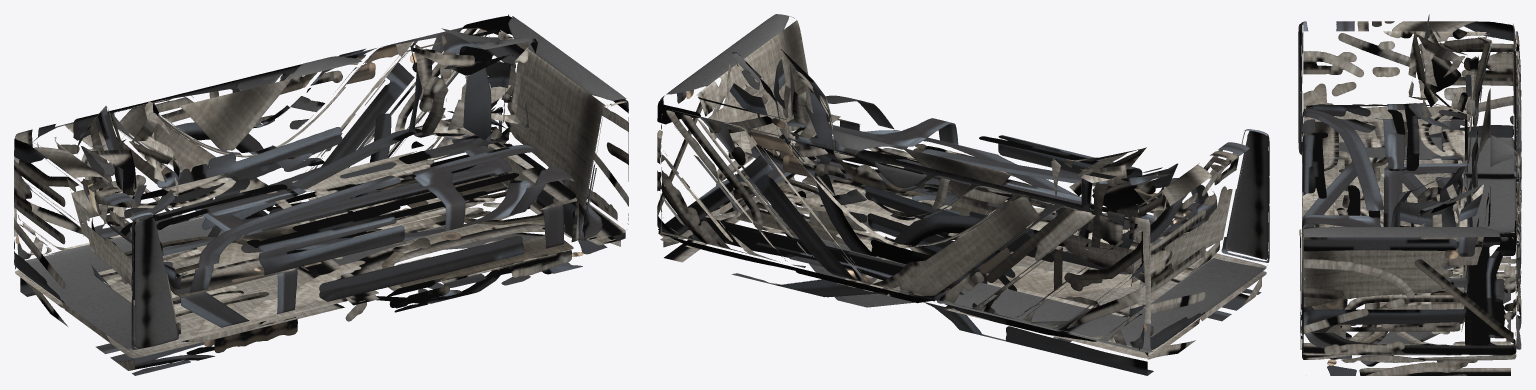
3 views of the same model, side by side, from view 1: azimuth 30°, elevation 25°; view 2: azimuth 150°, elevation 25°; view 3: azimuth 270°, elevation 25° (orthographic). The views are drawn at different scales.
Visible parts, largest first — view 1: solid_001, solid_002, solid_003, solid_004, solid_005; view 2: solid_001, solid_002, solid_003, solid_005, solid_004; view 3: solid_001, solid_002, solid_004, solid_003, solid_005.
Boxes of the visible parts, box(x1,y1,x2,y2) form: solid_001: box(14, 14, 628, 348); solid_002: box(15, 100, 628, 358); solid_003: box(20, 189, 620, 375); solid_004: box(118, 44, 512, 221); solid_005: box(77, 28, 537, 226); solid_001: box(657, 14, 1268, 350); solid_002: box(658, 18, 1269, 358); solid_003: box(663, 182, 1261, 375); solid_005: box(727, 52, 1177, 249); solid_004: box(773, 49, 1146, 233); solid_001: box(1298, 21, 1521, 354); solid_002: box(1301, 22, 1516, 360); solid_004: box(1391, 31, 1478, 226); solid_003: box(1327, 160, 1510, 375); solid_005: box(1408, 14, 1492, 270).
Size of the model in its own units: 2 by 0.6813 by 0.8677.
